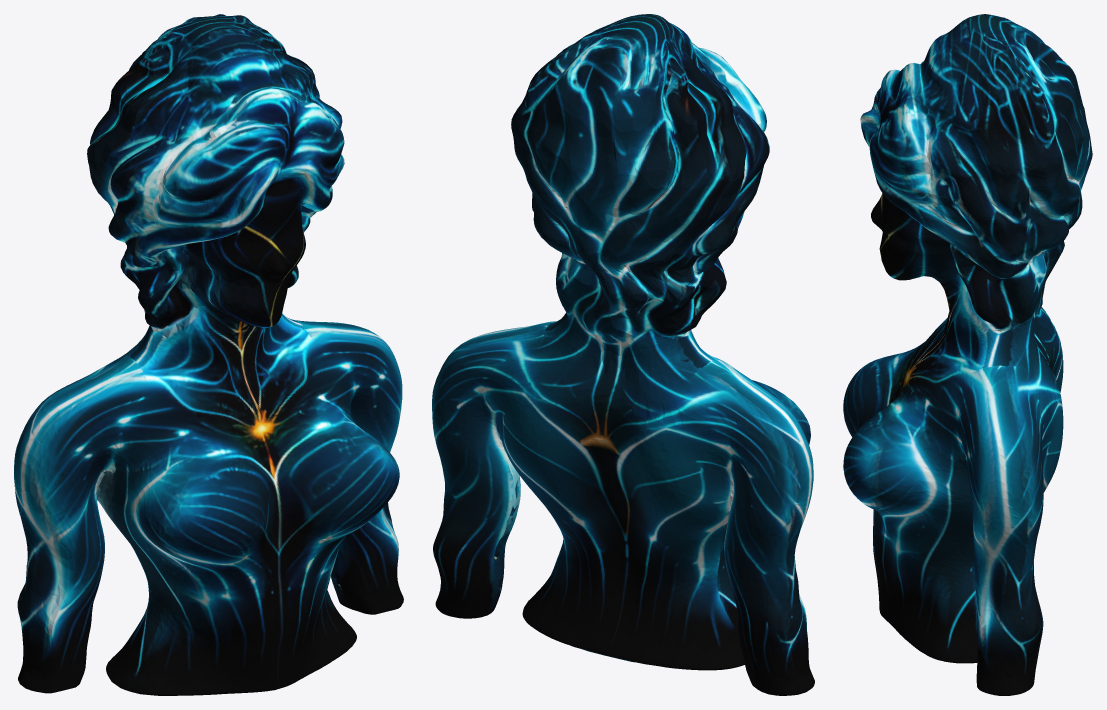
File: n7-model-fitted-v1.glb
3 views of the same model, side by side, from view 1: azimuth 30°, elevation 25°; view 2: azimuth 150°, elevation 25°; view 3: azimuth 270°, elevation 25° (orthographic). The views are drawn at different scales.
Parts seen in each view (by area): view 1: n7_fitted; view 2: n7_fitted; view 3: n7_fitted.
Part boxes in pixels (box(x1,y1,x2,y2)): n7_fitted: box(14, 14, 403, 695); n7_fitted: box(432, 14, 814, 695); n7_fitted: box(843, 14, 1092, 695).
Bounding box in the file's own units: 270 × 430 × 165.
Materials: 1 (1 with a texture image).
